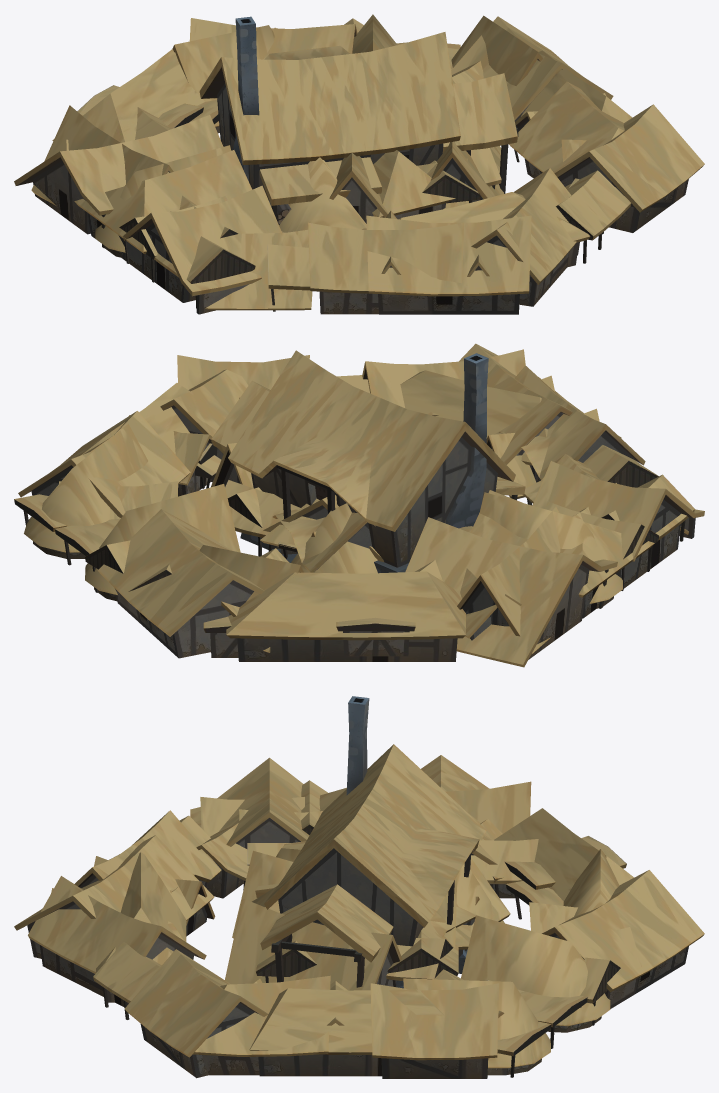
Rendered from Village_human.gltf.
3 views of the same model, one above another, from view 1: azimuth 30°, elevation 25°; view 2: azimuth 150°, elevation 25°; view 3: azimuth 270°, elevation 25° (orthographic). The views are drawn at different scales.
Parts seen in each view (by area): view 1: Village_human_hall_01, Village_human_small_04, Village_human_small_03, Village_human_small_02, Village_human_small_05, Village_human_small_01, Village_human_small_center_05, Village_human_small_center_02, Village_human_small_center_04, Village_human_small_center_03; view 2: Village_human_hall_01, Village_human_small_04, Village_human_small_03, Village_human_small_05, Village_human_small_02, Village_human_small_01, Village_human_small_center_05, Village_human_small_center_03, Village_human_small_center_02, Village_human_small_center_04; view 3: Village_human_small_03, Village_human_hall_01, Village_human_small_04, Village_human_small_05, Village_human_small_02, Village_human_small_center_03, Village_human_small_01, Village_human_small_center_02, Village_human_small_center_05, Village_human_small_center_04.
Boxes of the visible parts, box(x1,y1,x2,y2) form: Village_human_hall_01: box(199, 16, 518, 224); Village_human_small_04: box(14, 14, 624, 314); Village_human_small_03: box(31, 18, 704, 314); Village_human_small_02: box(74, 18, 632, 314); Village_human_small_05: box(52, 16, 613, 308); Village_human_small_01: box(66, 61, 605, 310); Village_human_small_center_05: box(279, 157, 480, 232); Village_human_small_center_02: box(372, 148, 501, 219); Village_human_small_center_04: box(329, 152, 388, 223); Village_human_small_center_03: box(430, 79, 503, 202); Village_human_hall_01: box(211, 350, 525, 573); Village_human_small_04: box(24, 343, 659, 667); Village_human_small_03: box(14, 349, 704, 658); Village_human_small_05: box(18, 370, 694, 661); Village_human_small_02: box(82, 365, 654, 657); Village_human_small_01: box(59, 375, 688, 640); Village_human_small_center_05: box(227, 487, 377, 573); Village_human_small_center_03: box(211, 443, 375, 572); Village_human_small_center_02: box(225, 480, 319, 554); Village_human_small_center_04: box(263, 495, 383, 561); Village_human_small_03: box(28, 757, 704, 1078); Village_human_hall_01: box(255, 696, 486, 988); Village_human_small_04: box(14, 755, 619, 1075); Village_human_small_05: box(96, 797, 641, 1078); Village_human_small_02: box(74, 787, 620, 1076); Village_human_small_center_03: box(225, 858, 510, 990); Village_human_small_01: box(51, 819, 577, 1025); Village_human_small_center_02: box(252, 886, 470, 986); Village_human_small_center_05: box(276, 848, 504, 980); Village_human_small_center_04: box(232, 850, 473, 973).
Bounding box in the file's own units: 6.86 × 2.55 × 7.89.
2 materials, 2 textured.
